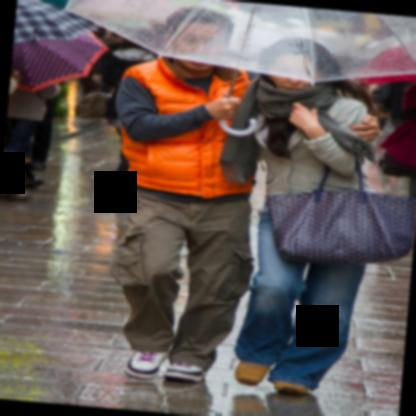handbag: (269, 159, 416, 268)
